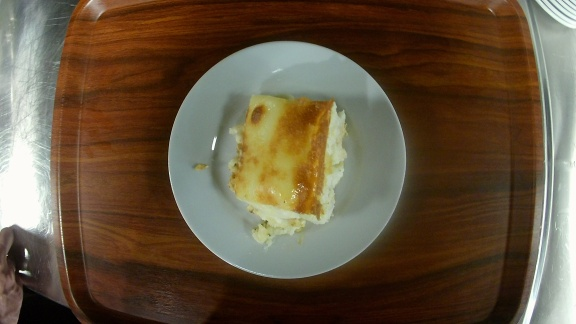firinmakarna: (166, 41, 411, 282)
